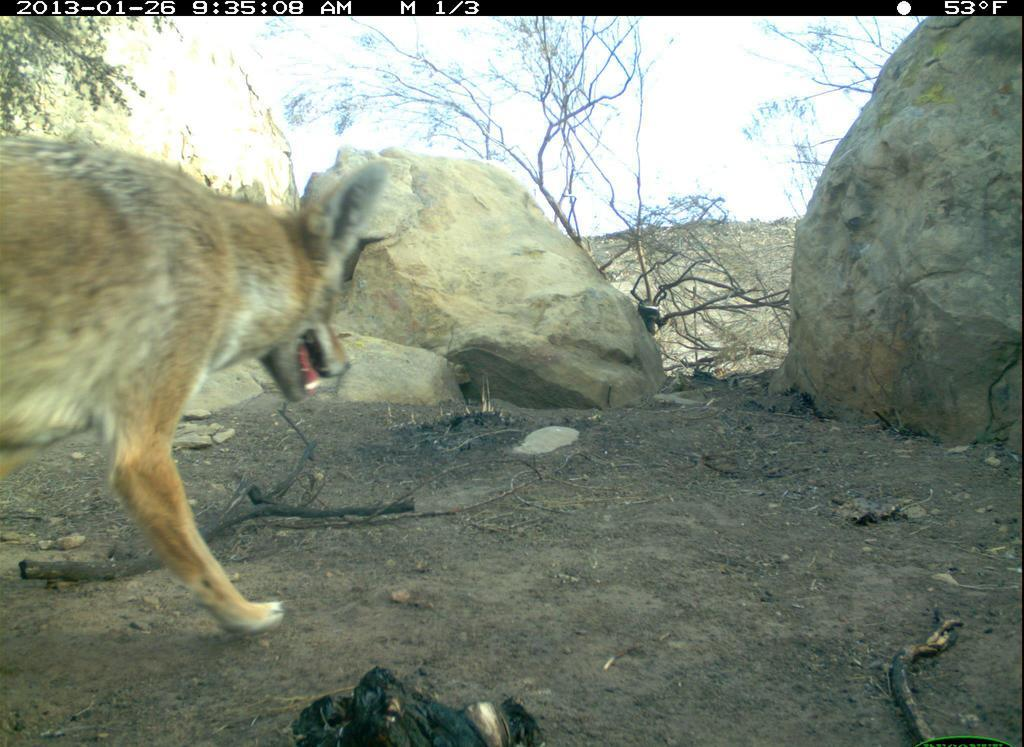coyote: (1, 116, 404, 642)
